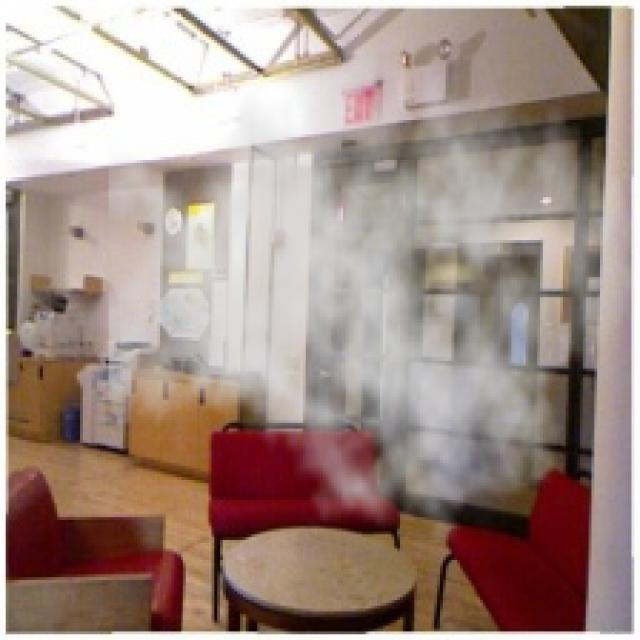smoke: (109, 8, 637, 546)
